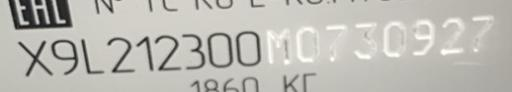letter: (105, 33, 137, 76), (17, 38, 53, 75), (50, 38, 80, 78), (381, 19, 409, 60), (352, 19, 378, 63), (470, 11, 494, 57), (264, 27, 292, 65), (205, 29, 233, 67), (178, 32, 206, 70), (78, 37, 106, 75), (154, 33, 182, 70), (440, 14, 464, 56), (234, 30, 262, 66), (294, 24, 320, 62), (410, 19, 436, 56), (324, 23, 348, 62), (134, 31, 154, 73)
